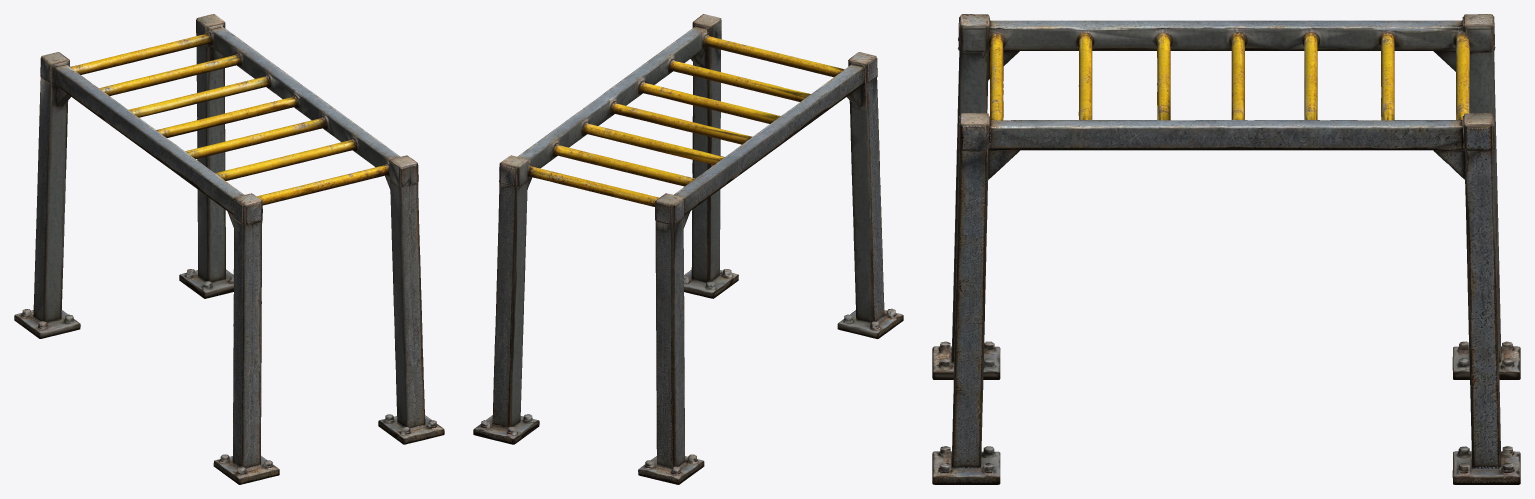
Rendered from monkey-bars.glb.
3 views of the same model, side by side, from view 1: azimuth 30°, elevation 25°; view 2: azimuth 150°, elevation 25°; view 3: azimuth 270°, elevation 25° (orthographic). The views are drawn at different scales.
Parts seen in each view (by area): view 1: tripo_node_f5faef5e-02b4-481e-bd4e-df95d1c62e26; view 2: tripo_node_f5faef5e-02b4-481e-bd4e-df95d1c62e26; view 3: tripo_node_f5faef5e-02b4-481e-bd4e-df95d1c62e26.
Part boxes in pixels (bbox=[...]): tripo_node_f5faef5e-02b4-481e-bd4e-df95d1c62e26: bbox=[14, 14, 444, 484]; tripo_node_f5faef5e-02b4-481e-bd4e-df95d1c62e26: bbox=[473, 14, 903, 484]; tripo_node_f5faef5e-02b4-481e-bd4e-df95d1c62e26: bbox=[932, 14, 1520, 484].
Size of the model in its own units: 0.5174 by 0.6454 by 0.9805.
1 material, 1 textured.
